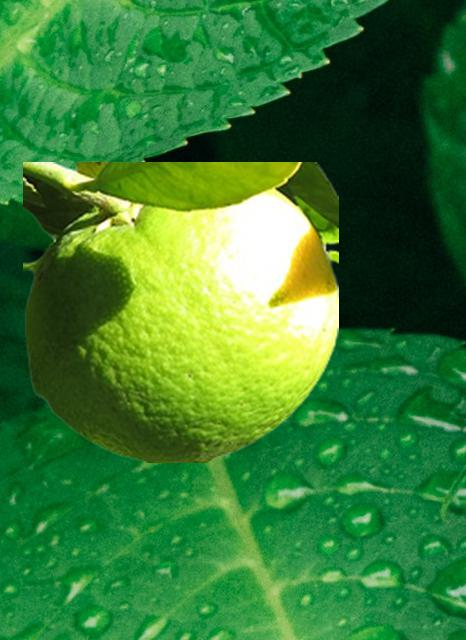dalandan: (23, 162, 337, 461)
